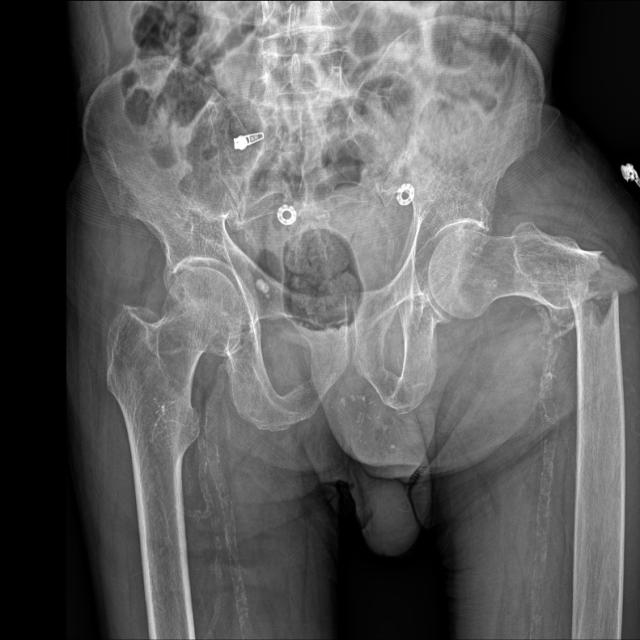left-subtrochanteric: (427, 221, 638, 327), (572, 292, 624, 637)
normal-right: (107, 266, 242, 569)
